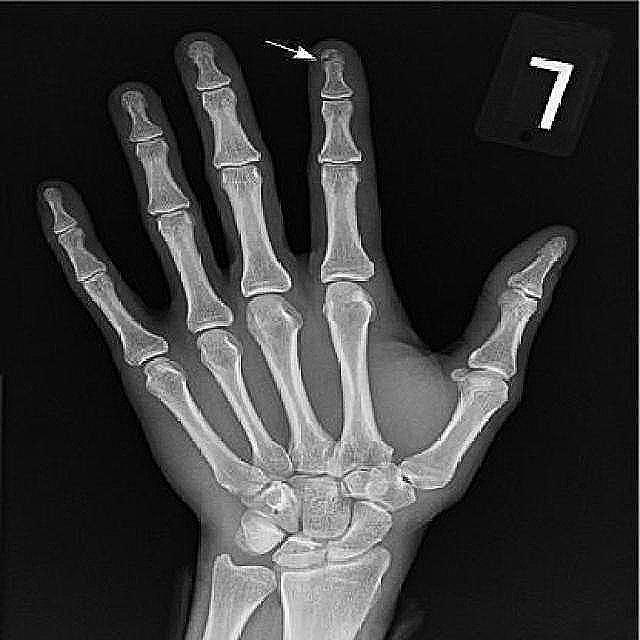bone: (316, 41, 350, 76)
